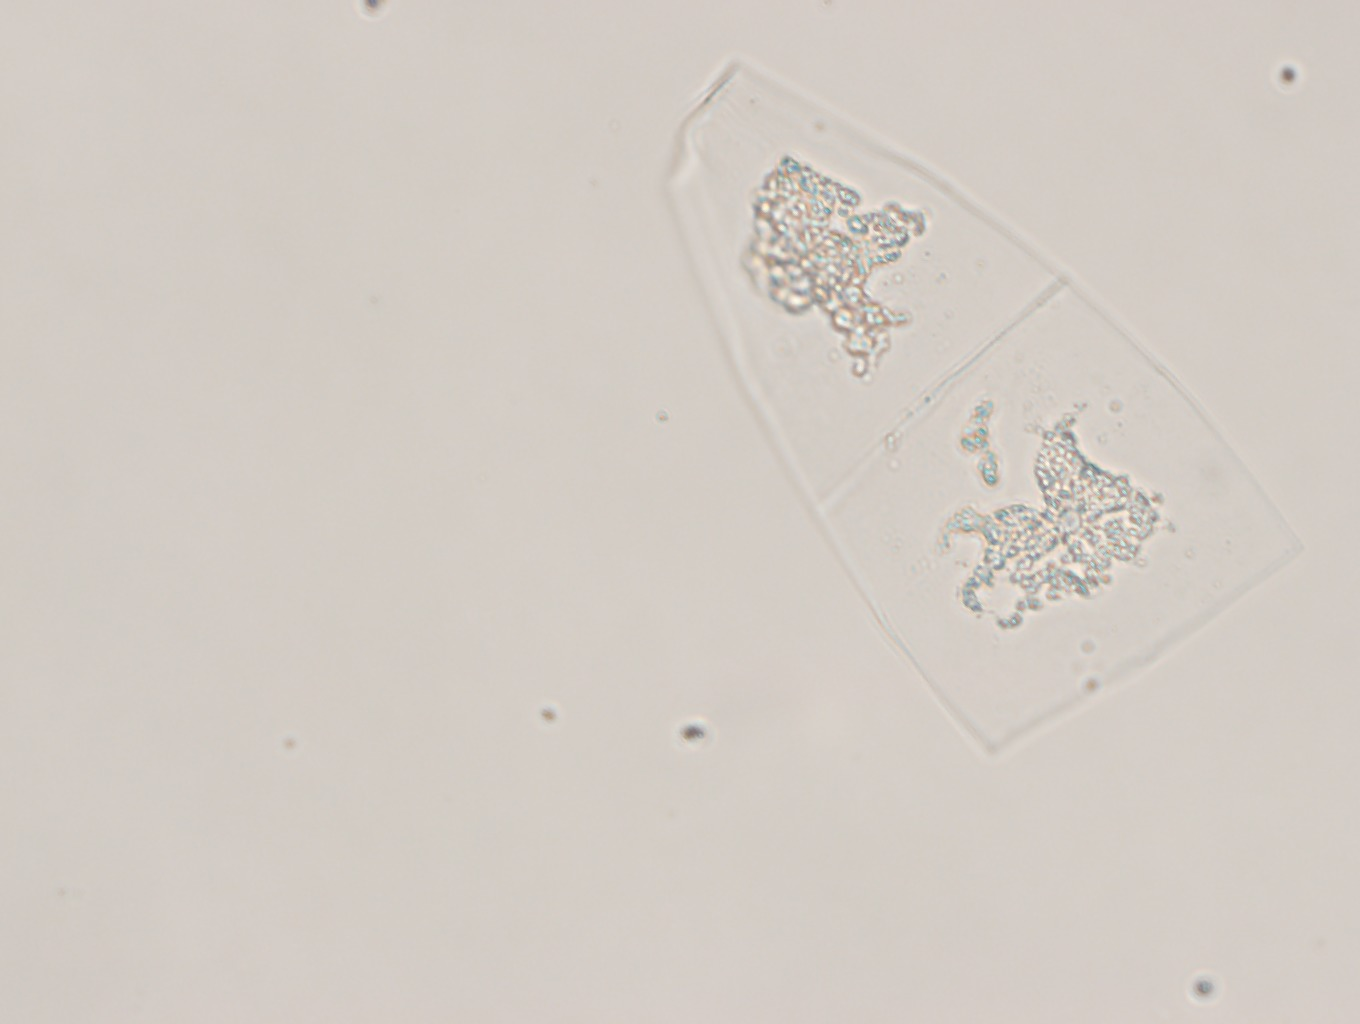helicotheca: (661, 60, 1304, 752)
